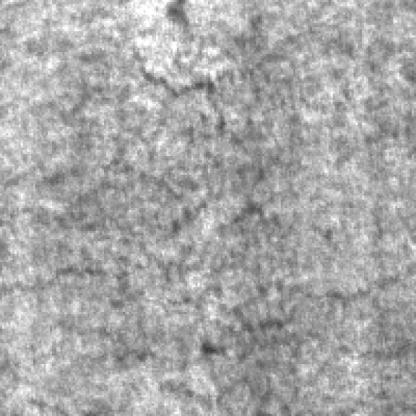crazing: (127, 42, 270, 235), (232, 260, 416, 364), (4, 241, 160, 358)
